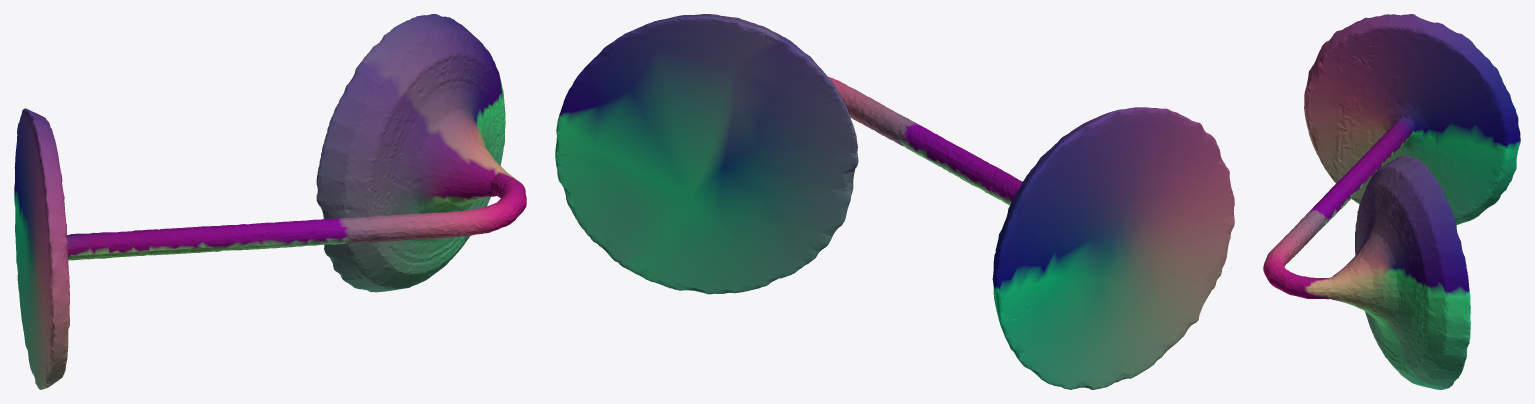
File: lamp-2.off.obj
3 views of the same model, side by side, from view 1: azimuth 30°, elevation 25°; view 2: azimuth 150°, elevation 25°; view 3: azimuth 270°, elevation 25° (orthographic). The views are drawn at different scales.
Bounding box in the file's own units: 1.7 × 0.7835 × 0.8473.
